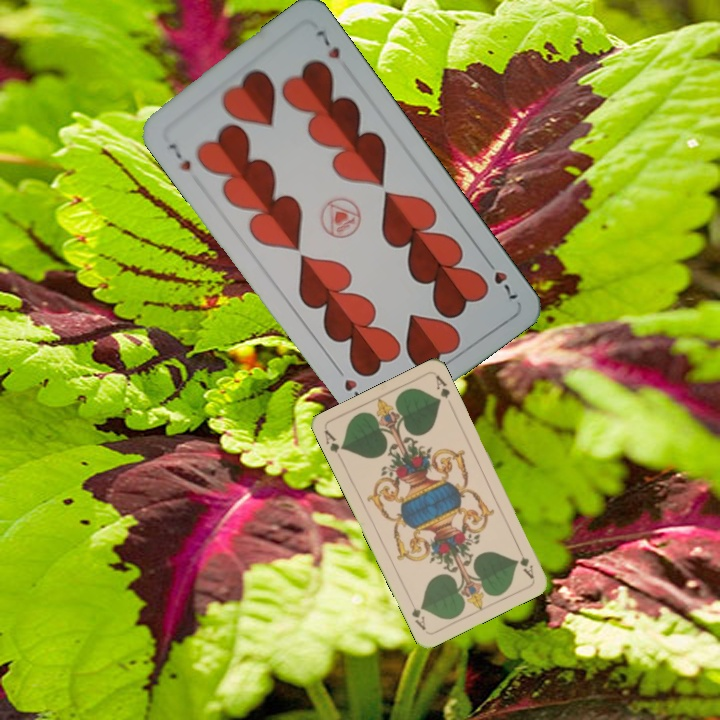GA: (513, 542, 537, 581), (320, 426, 347, 455)
H7: (480, 253, 520, 305), (164, 139, 194, 174)
